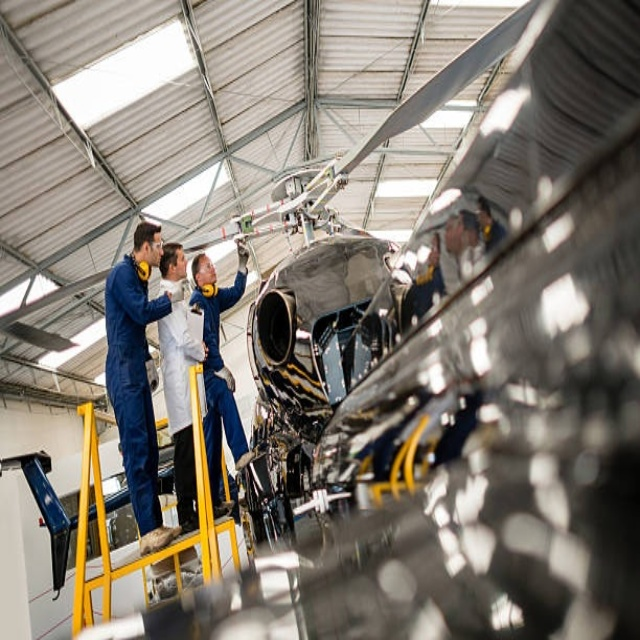Gafas: (193, 258, 215, 275), (144, 240, 166, 251)
Guantes: (213, 366, 243, 392), (232, 234, 250, 272), (166, 277, 187, 306)
